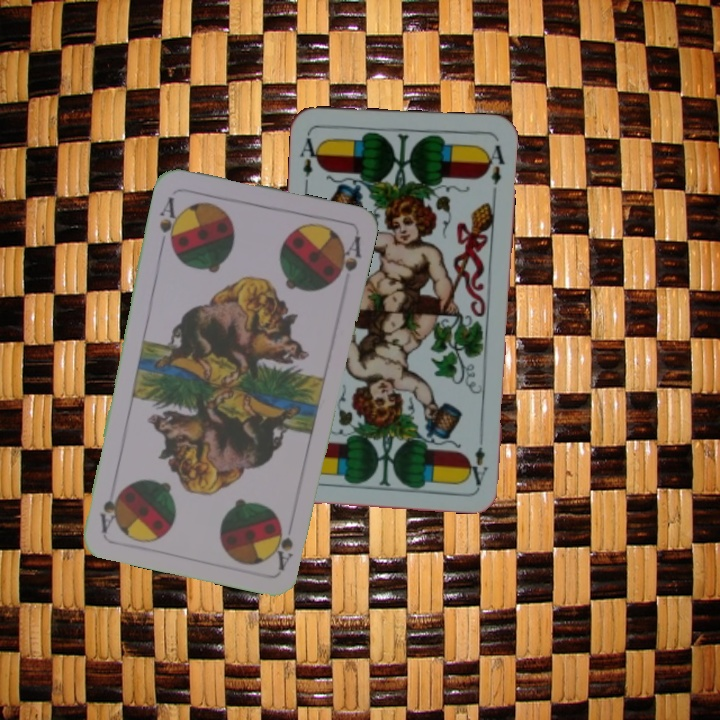EA: (295, 130, 323, 189), (467, 443, 490, 488)
SA: (155, 192, 183, 251), (270, 518, 296, 572)
